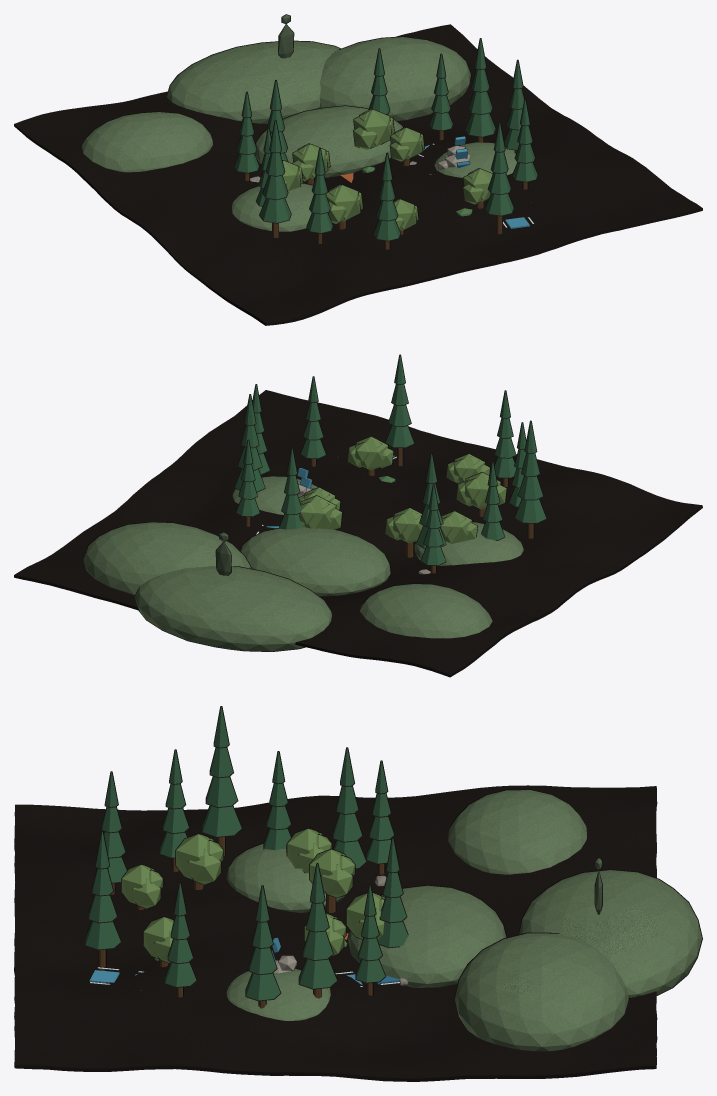
Rendered from bethlehem_valley_v4.glb.
The picture shows the model from 3 angles, top to bottom: view 1: azimuth 30°, elevation 25°; view 2: azimuth 150°, elevation 25°; view 3: azimuth 270°, elevation 25°; orthographic projection. The views are drawn at different scales.
Visible parts, largest first — view 1: BethlehemValley_v2_Outline, BethlehemValley_v2, Cypress_8, Cypress_4, Cypress_7, Olive_5, Cypress_6, Cypress_0, Olive_2, Cypress_3, Cypress_10, Cypress_5 (+7 smaller); view 2: BethlehemValley_v2_Outline, BethlehemValley_v2, Cypress_8, Cypress_7, Olive_3, Cypress_6, Olive_5, Olive_2, Olive_0, Cypress_3, Cypress_10, Cypress_4 (+8 smaller); view 3: BethlehemValley_v2_Outline, BethlehemValley_v2, Cypress_8, Cypress_4, Cypress_7, Cypress_9, Cypress_2, Olive_2, Cypress_11, Cypress_3, Olive_0, Cypress_0 (+9 smaller).
Boxes of the visible parts, x1,y1,x2,y2 form: BethlehemValley_v2_Outline: (14, 14, 702, 325); BethlehemValley_v2: (82, 14, 516, 231); Cypress_8: (260, 120, 290, 237); Cypress_4: (465, 38, 495, 142); Cypress_7: (485, 123, 513, 234); Olive_5: (353, 109, 394, 149); Cypress_6: (374, 153, 400, 249); Cypress_0: (307, 149, 332, 243); Olive_2: (326, 185, 362, 229); Cypress_3: (512, 100, 537, 189); Cypress_10: (234, 92, 258, 180); Cypress_5: (429, 54, 452, 140); BethlehemValley_v2_Outline: (14, 390, 702, 677); BethlehemValley_v2: (83, 476, 523, 651); Cypress_8: (515, 421, 546, 538); Cypress_7: (386, 355, 413, 465); Olive_3: (347, 436, 393, 475); Cypress_6: (494, 391, 516, 487); Olive_5: (298, 495, 341, 529); Olive_2: (456, 472, 506, 516); Olive_0: (385, 508, 422, 557); Cypress_3: (301, 377, 325, 466); Cypress_10: (421, 485, 445, 573); Cypress_4: (235, 394, 264, 491); BethlehemValley_v2_Outline: (14, 785, 702, 1081); BethlehemValley_v2: (226, 790, 701, 1051); Cypress_8: (202, 707, 241, 855); Cypress_4: (299, 864, 336, 998); Cypress_7: (85, 831, 120, 970); Cypress_9: (246, 886, 280, 1008); Cypress_2: (333, 748, 366, 868); Olive_2: (176, 834, 223, 889); Cypress_11: (378, 838, 408, 947); Cypress_3: (165, 883, 196, 997); Olive_0: (309, 849, 354, 912); Cypress_0: (160, 750, 188, 871).
Bounding box in the file's own units: 28.11 × 8.01 × 30.11.
Materials: 121 (121 with a texture image).
